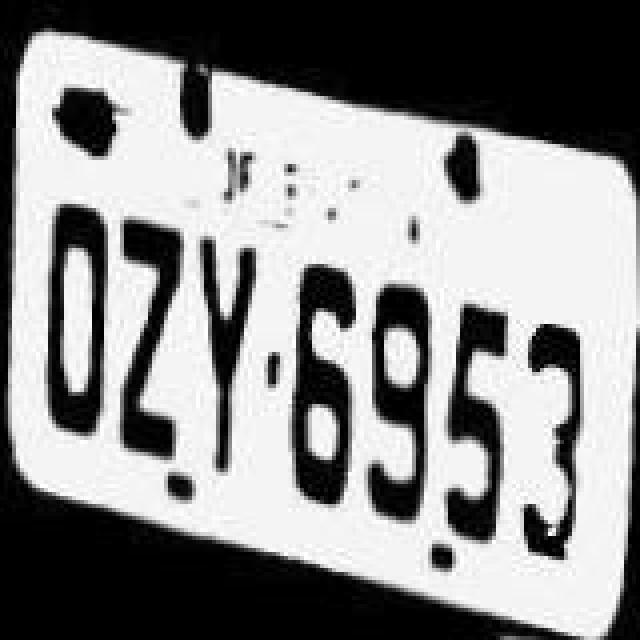3: (506, 320, 586, 556)
5: (436, 306, 520, 550)
6: (284, 258, 364, 502)
9: (364, 270, 440, 518)
O: (30, 200, 114, 440)
Y: (192, 226, 264, 478)
Z: (110, 216, 186, 464)
